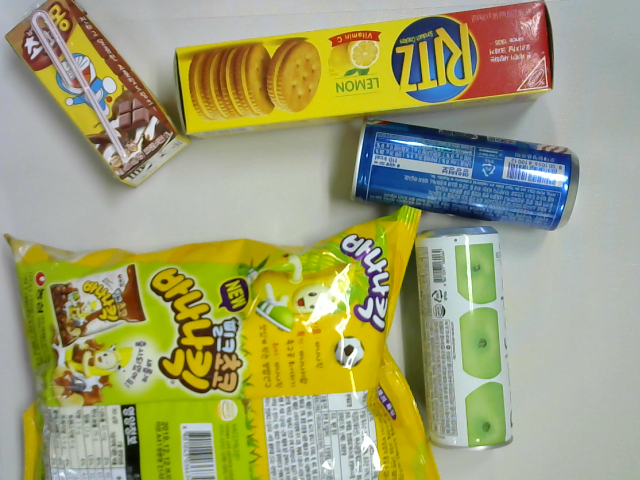Banana_Kick: (2, 203, 442, 480)
Choco_E_Mong: (2, 1, 192, 192)
Demisoda_Apple_Can_250ml: (414, 223, 516, 455)
Pepsi_Cola_Can_250ml: (349, 119, 582, 232)
Ritz_Remon_96g: (171, 1, 557, 142)
